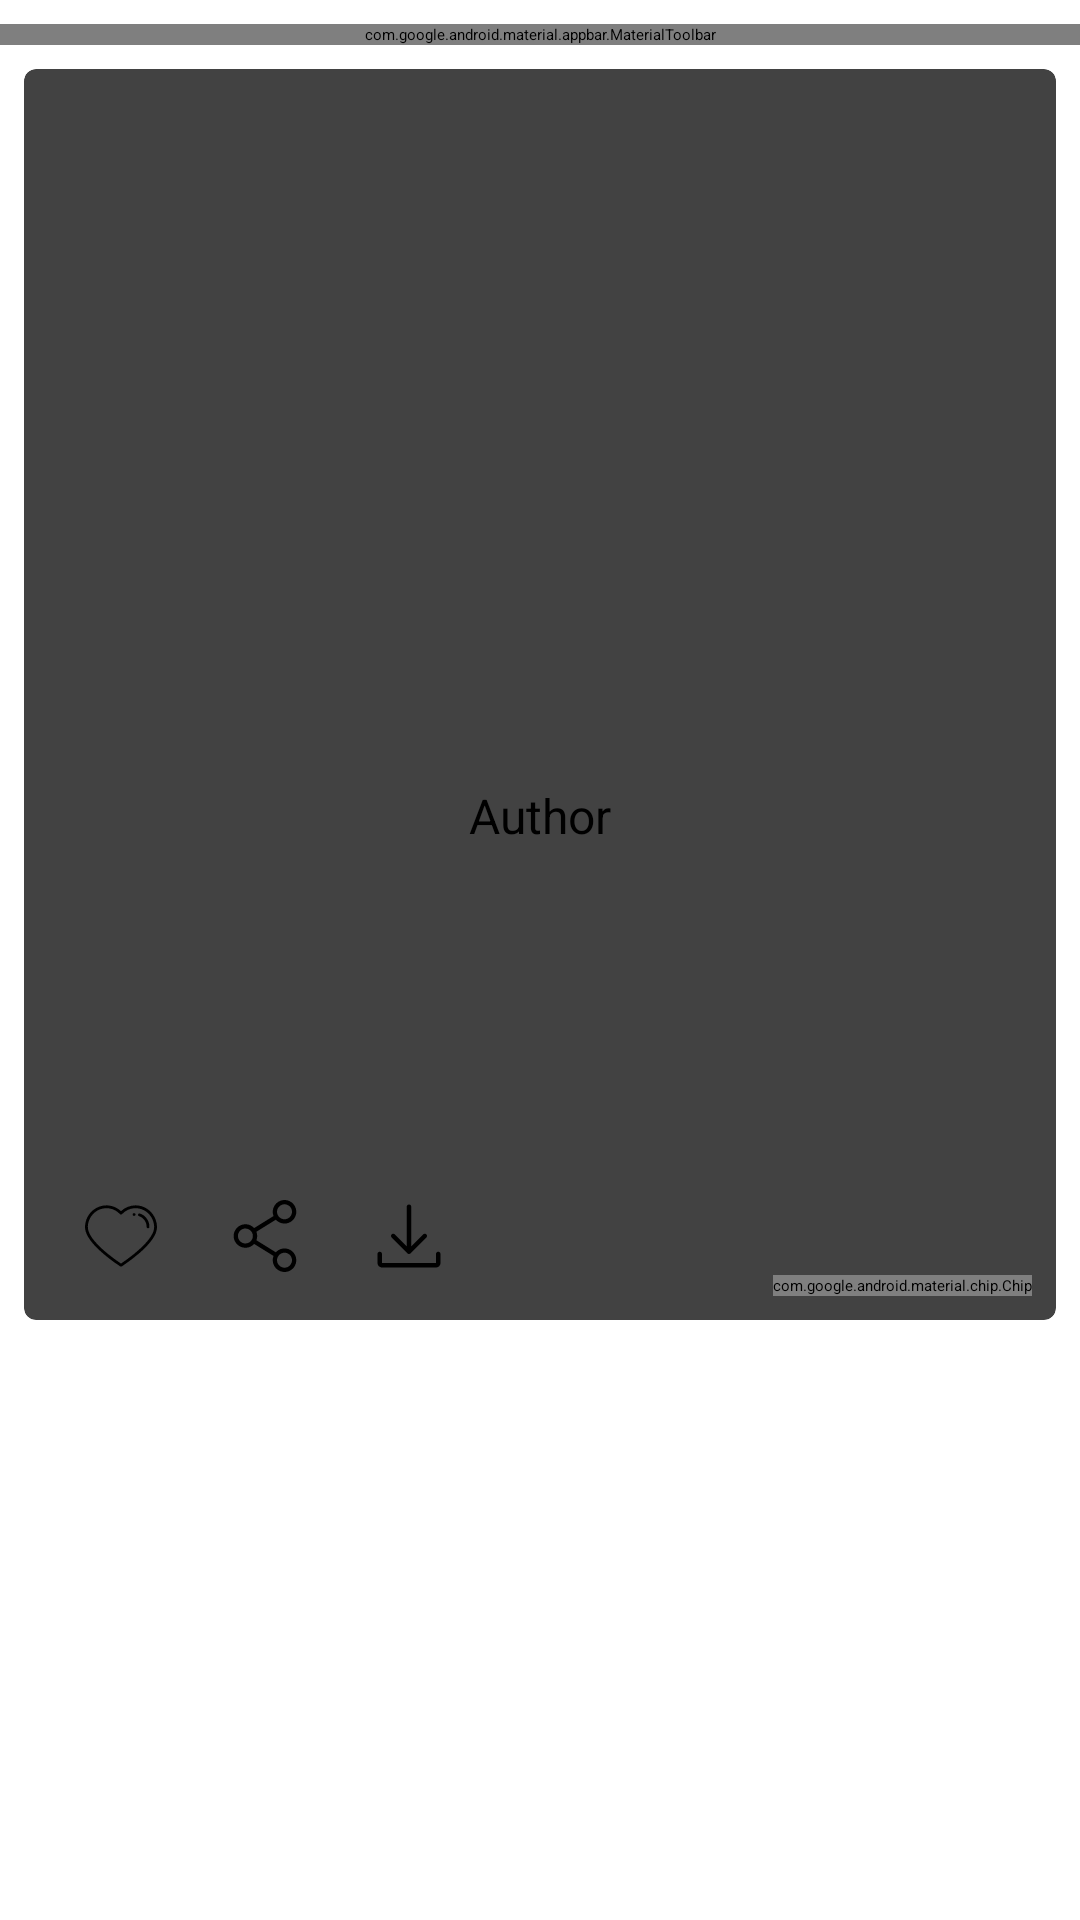

Where to tap for icons on this 1080px×1920px app screen, as point (x, y):
Download button: point (409, 1236)
Like button: point (121, 1236)
Share button: point (265, 1236)
